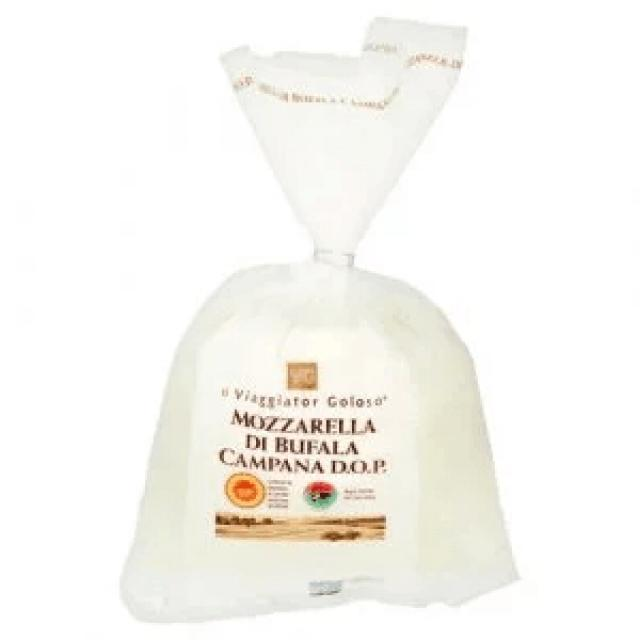Cheese: (117, 15, 521, 625)
